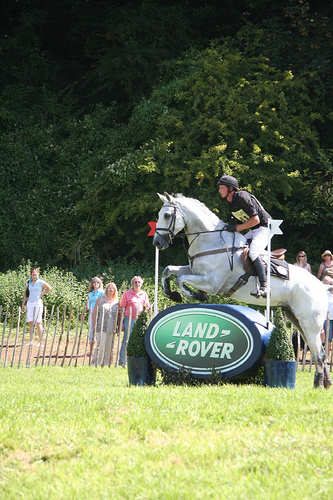without_mask: (216, 180, 238, 200), (130, 276, 145, 290), (105, 283, 118, 299), (90, 276, 103, 291), (29, 268, 42, 282), (296, 251, 307, 264), (322, 251, 333, 264)
